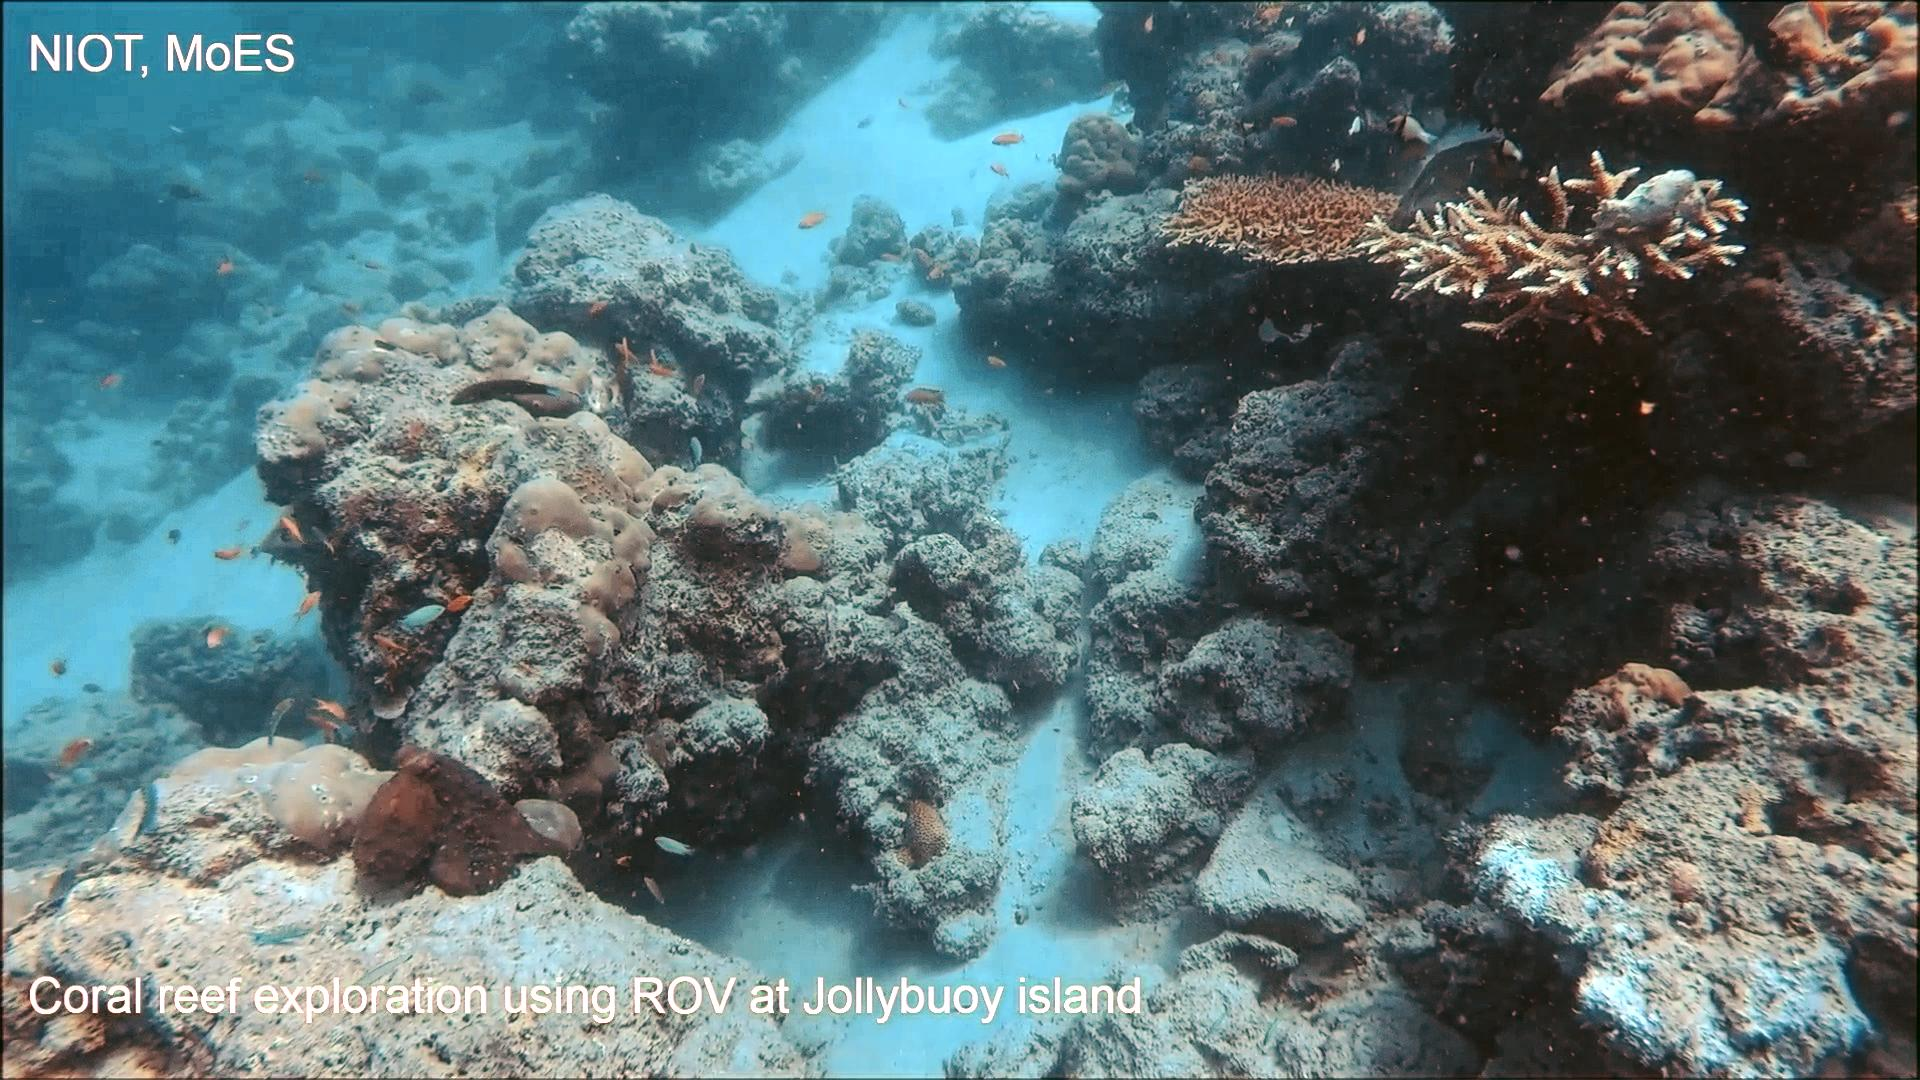Porites-Porites pukoensis: (429, 297, 695, 658)
